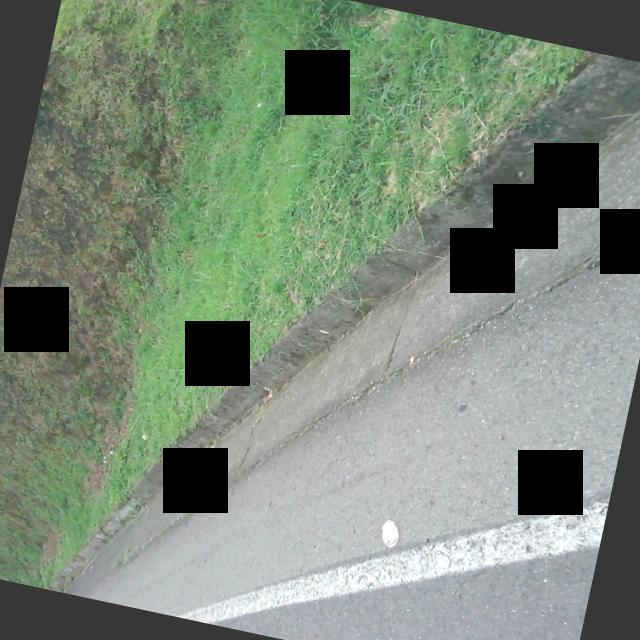DITCH: (12, 0, 640, 640), (52, 0, 640, 640)
